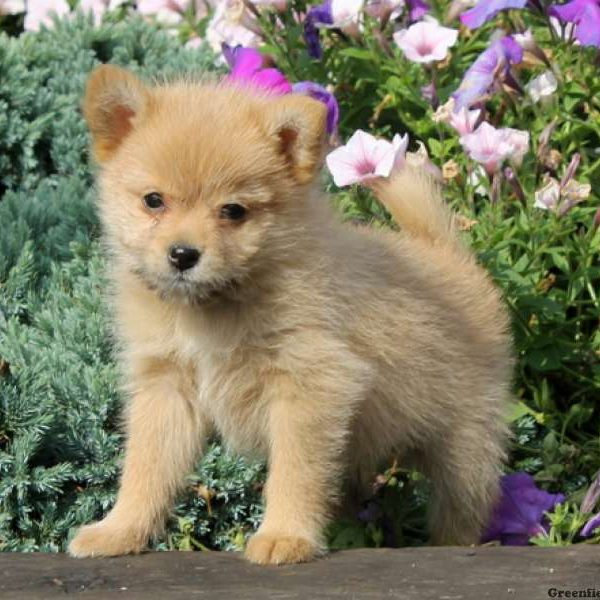pomeranian: (41, 60, 544, 566)
